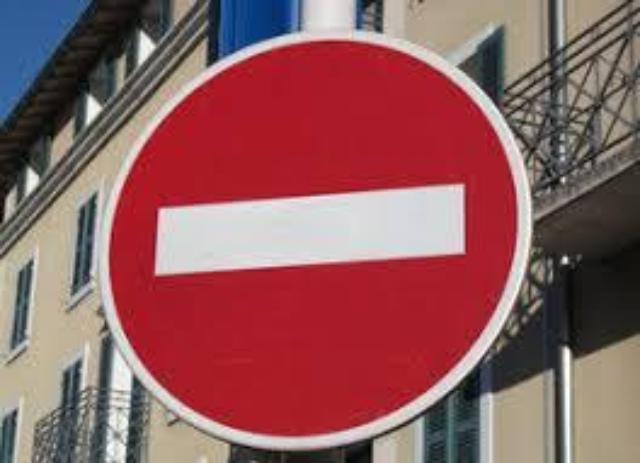B2: (90, 27, 538, 451)
